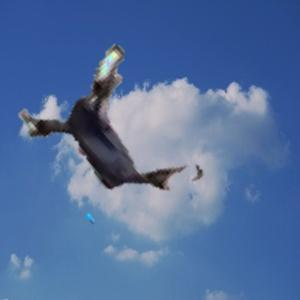drone: (14, 33, 216, 235)
